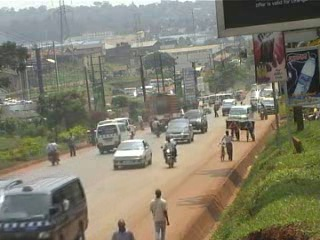Car: (110, 135, 153, 170), (0, 175, 27, 212), (164, 117, 195, 144), (183, 108, 209, 135), (179, 105, 187, 120), (202, 103, 212, 114)
Motorcycle: (159, 138, 179, 169), (46, 137, 62, 167), (151, 119, 164, 138)
